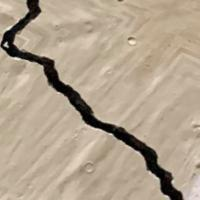crack: (0, 0, 186, 199)
